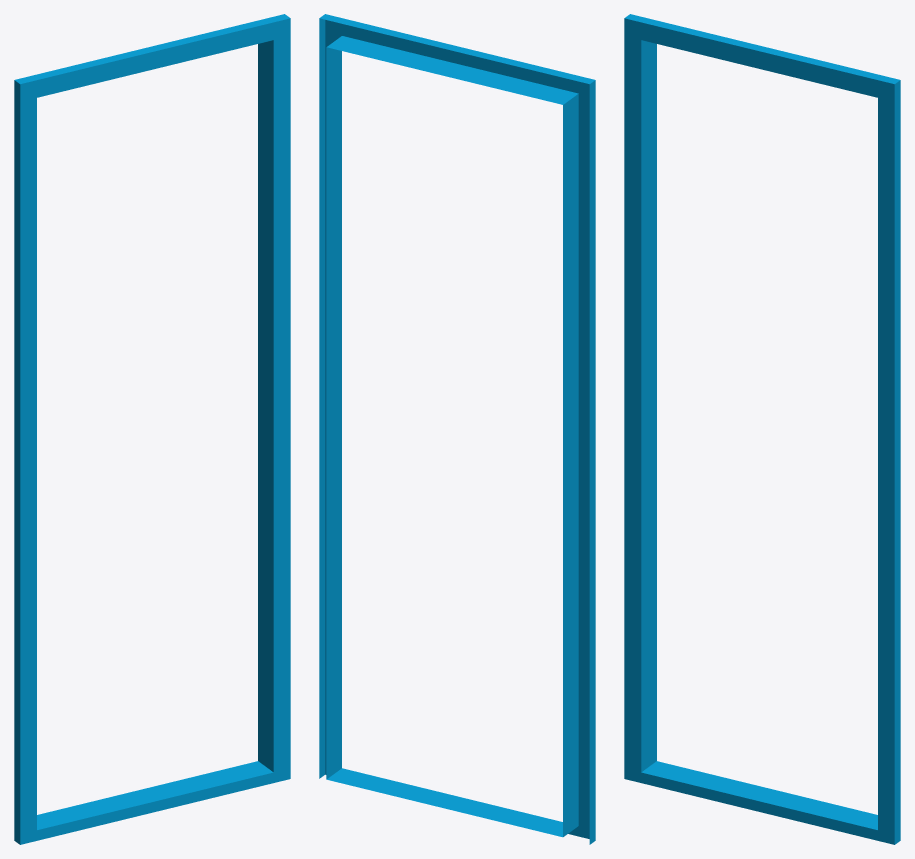
File: SM_doorpost.fbx
3 renders of one model, left to right at view 1: azimuth 30°, elevation 25°; view 2: azimuth 150°, elevation 25°; view 3: azimuth 330°, elevation 25°, orthographic.
Visible parts, largest first — view 1: doorpost_mesh; view 2: doorpost_mesh; view 3: doorpost_mesh.
Part boxes in pixels (box(x1,y1,x2,y2)): doorpost_mesh: box(14, 14, 290, 844); doorpost_mesh: box(319, 14, 595, 844); doorpost_mesh: box(624, 14, 900, 844).
Bounding box in the file's own units: 0.8 × 2.15 × 0.08.
